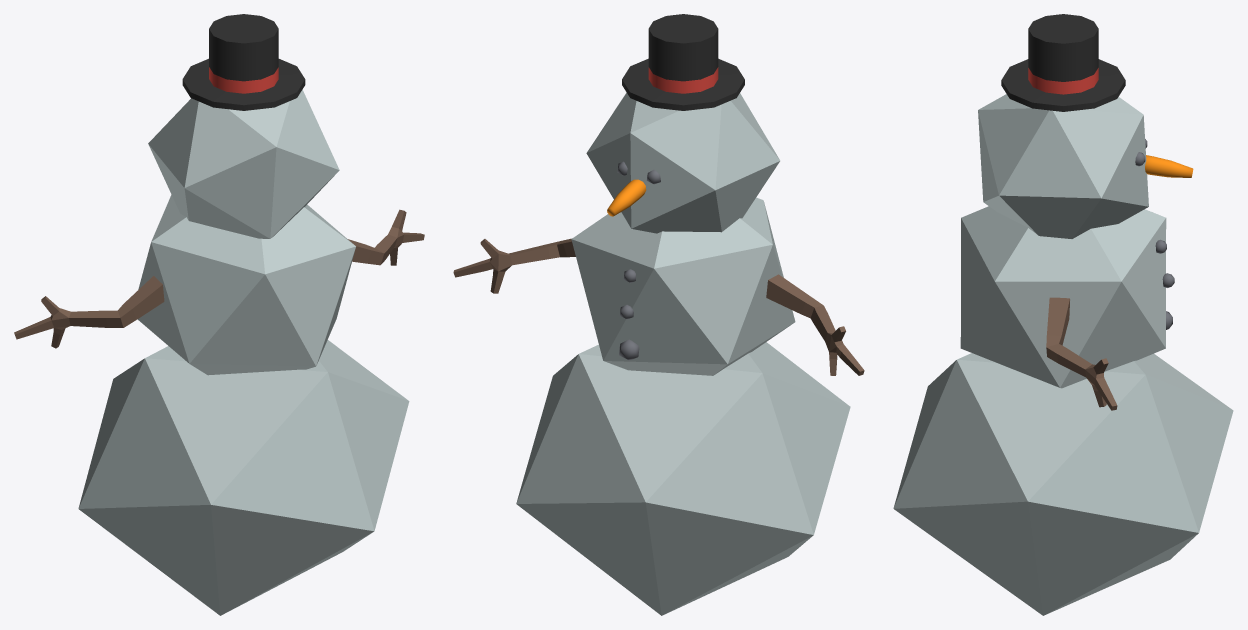
The model's file is snowman2.fbx.
3 views of the same model, side by side, from view 1: azimuth 30°, elevation 25°; view 2: azimuth 150°, elevation 25°; view 3: azimuth 270°, elevation 25° (orthographic).
Visible parts, largest first — view 1: snowman2; view 2: snowman2; view 3: snowman2.
Part boxes in pixels (x1,y1,x2,y2): snowman2: [14, 14, 424, 615]; snowman2: [453, 14, 864, 615]; snowman2: [893, 14, 1233, 615].
Bounding box in the file's own units: 1.78 × 1.27 × 2.25.
